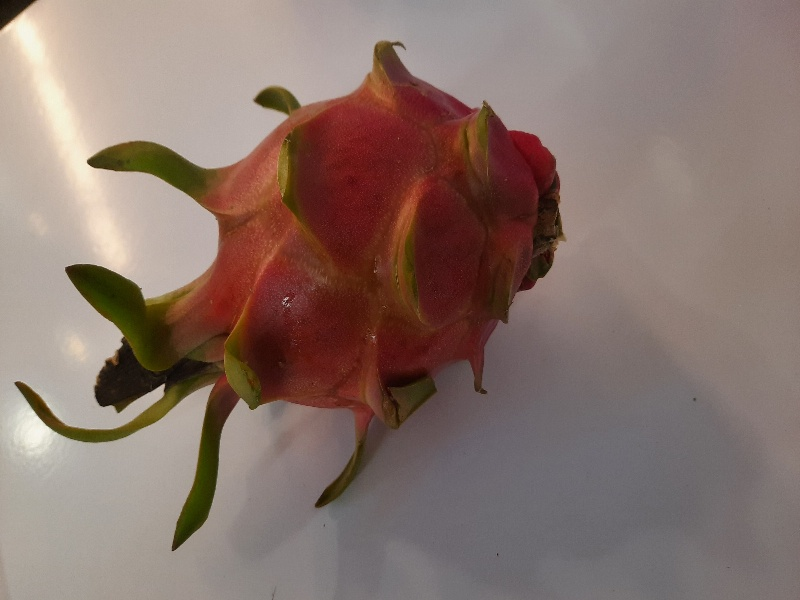fruit: (37, 42, 564, 498)
